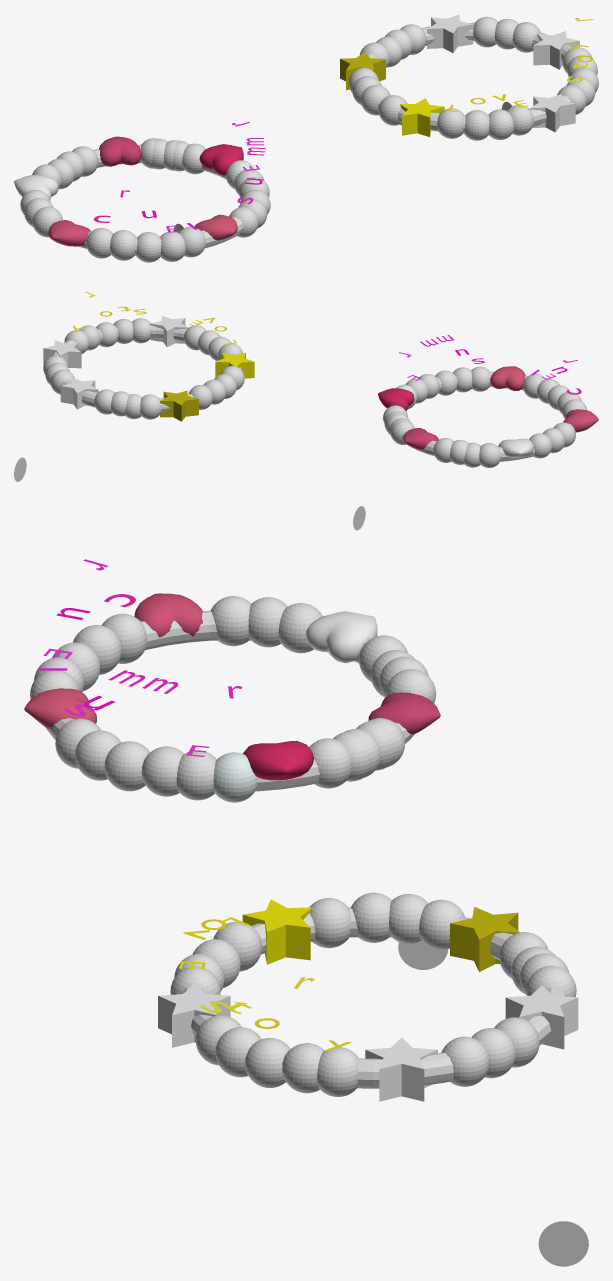
Rendered from PULSEIRAPronta.fbx.
The picture shows the model from 3 angles, top to bottom: view 1: azimuth 30°, elevation 25°; view 2: azimuth 150°, elevation 25°; view 3: azimuth 270°, elevation 25°; orthographic projection. The views are drawn at different scales.
Parts seen in each view (by area): view 1: Star.011, Star.010, Star.012, Vert.004, Star.024, Torus.004, Vert, Vert.002, Star.023, Vert.001, Vert.003, Sphere.046 (+35 smaller); view 2: Star.023, Torus.004, Vert.001, Star.011, Star.012, Star.024, Star.010, Vert, Vert.003, Vert.002, Vert.004, Torus.001 (+23 smaller); view 3: Torus.004, Star.024, Star.012, Vert.003, Torus.001, Star.023, Star.011, Star.010, Vert, Vert.002, Vert.004, Sphere.055 (+35 smaller).
Boxes of the visible parts, <box> form: Star.011: <box>427,14,473,52</box>; Star.010: <box>529,94,575,132</box>; Star.012: <box>533,31,579,69</box>; Vert.004: <box>99,136,141,166</box>; Star.024: <box>400,98,444,137</box>; Torus.004: <box>367,22,572,133</box>; Vert: <box>199,144,243,175</box>; Vert.002: <box>48,220,90,246</box>; Star.023: <box>340,52,385,90</box>; Vert.001: <box>195,214,237,240</box>; Vert.003: <box>14,175,58,199</box>; Sphere.046: <box>437,108,464,138</box>; Star.023: <box>160,390,198,421</box>; Torus.004: <box>51,323,241,412</box>; Vert.001: <box>490,366,525,391</box>; Star.011: <box>60,378,98,409</box>; Star.012: <box>43,340,81,368</box>; Star.024: <box>215,352,254,378</box>; Star.010: <box>150,316,188,347</box>; Vert: <box>378,388,414,410</box>; Vert.003: <box>498,438,533,458</box>; Vert.002: <box>563,409,598,432</box>; Vert.004: <box>403,428,438,449</box>; Torus.001: <box>401,371,575,461</box>; Torus.004: <box>180,907,566,1088</box>; Star.024: <box>242,899,311,964</box>; Star.012: <box>365,1037,437,1101</box>; Vert.003: <box>306,611,377,663</box>; Torus.001: <box>46,610,424,791</box>; Star.023: <box>450,907,519,971</box>; Star.011: <box>505,985,578,1049</box>; Star.010: <box>158,984,230,1047</box>; Vert: <box>243,741,313,780</box>; Vert.002: <box>134,593,202,637</box>; Vert.004: <box>368,692,440,734</box>; Sphere.055: <box>538,1221,588,1266</box>.
Bounding box in the file's own units: 314 × 85.84 × 157.
